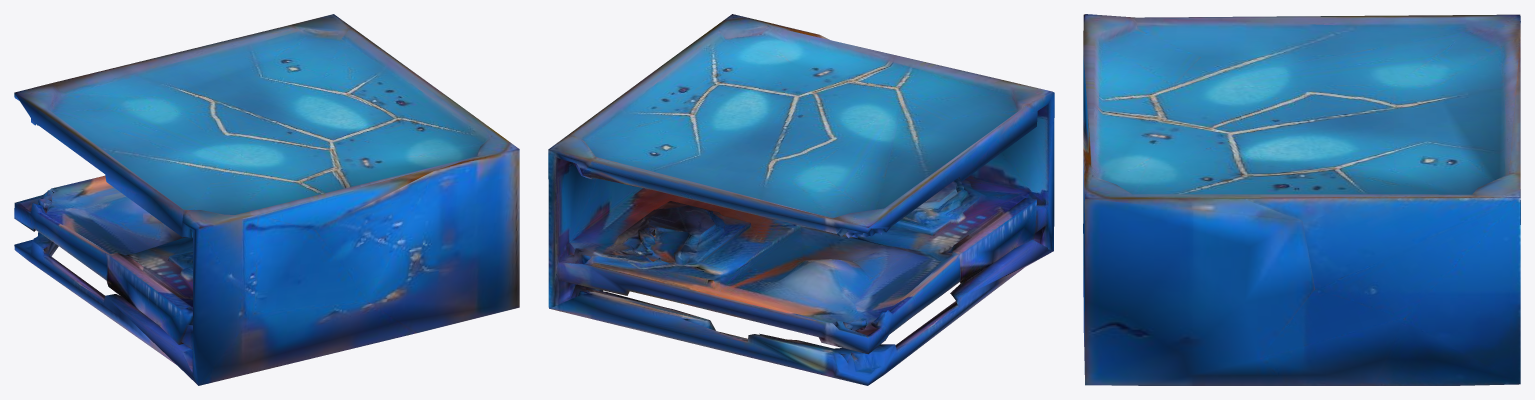
File: plaza-floor.glb
3 renders of one model, left to right at view 1: azimuth 30°, elevation 25°; view 2: azimuth 150°, elevation 25°; view 3: azimuth 270°, elevation 25°, orthographic. The views are drawn at different scales.
Parts seen in each view (by area): view 1: Mesh_0; view 2: Mesh_0; view 3: Mesh_0.
Boxes of the visible parts, bbox=[...] form: Mesh_0: bbox=[14, 14, 519, 385]; Mesh_0: bbox=[548, 14, 1054, 385]; Mesh_0: bbox=[1083, 14, 1520, 385].
Size of the model in its own units: 0.1685 by 0.08 by 0.1686.
Materials: 1 (1 with a texture image).
